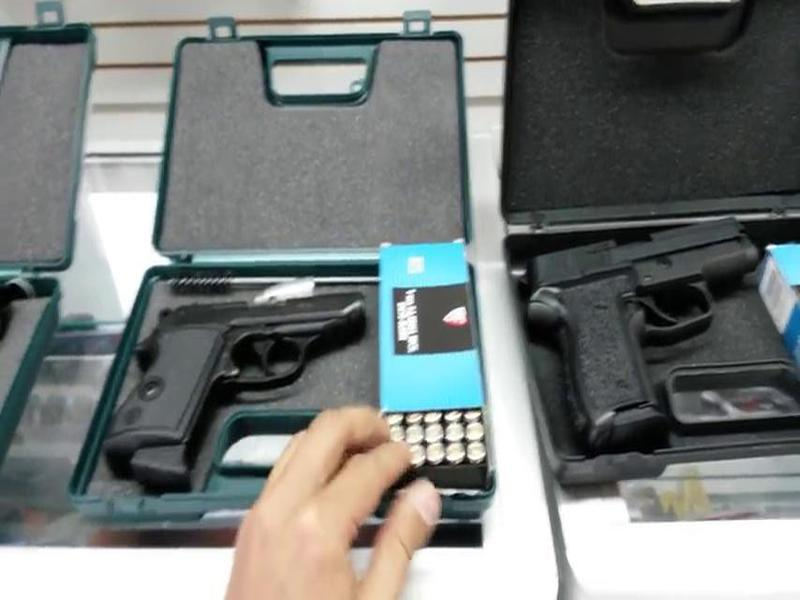Pistola: (512, 208, 776, 454), (103, 274, 389, 480)
